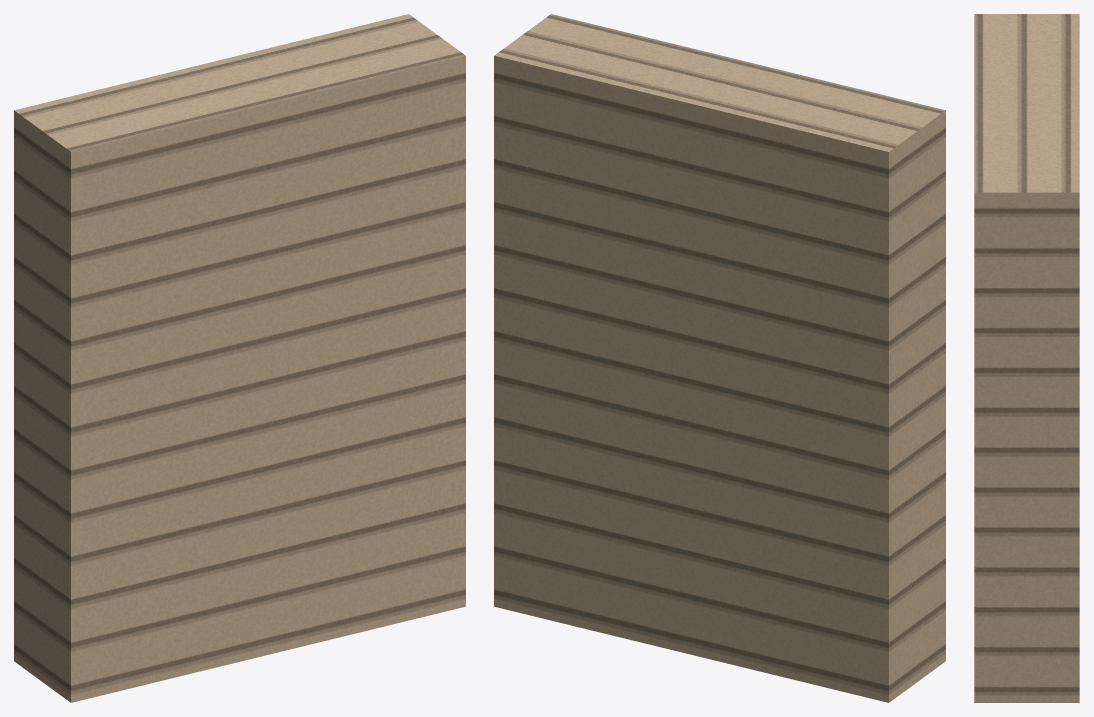
Rendered from misting_rack.glb.
3 renders of one model, left to right at view 1: azimuth 30°, elevation 25°; view 2: azimuth 150°, elevation 25°; view 3: azimuth 270°, elevation 25°, orthographic. The views are drawn at different scales.
Parts seen in each view (by area): view 1: misting_rack-col; view 2: misting_rack-col; view 3: misting_rack-col.
Part boxes in pixels (x1,y1,x2,y2): misting_rack-col: (14,14,465,702); misting_rack-col: (494,14,945,702); misting_rack-col: (974,14,1079,702).
Size of the model in its own units: 1.2 by 1.6 by 0.3.
1 material, 1 textured.
